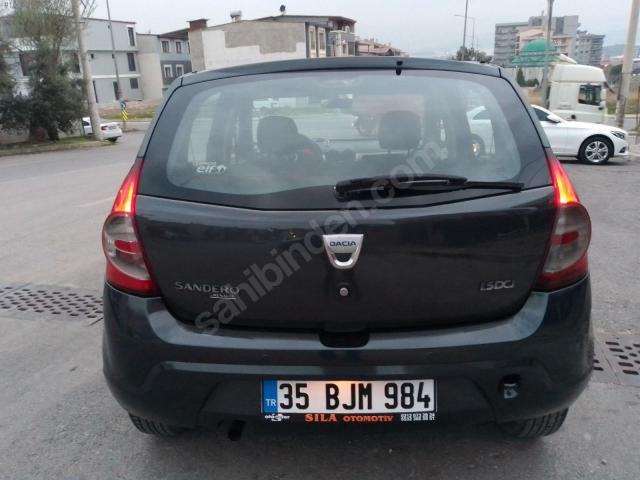plaka: (262, 379, 435, 420)
